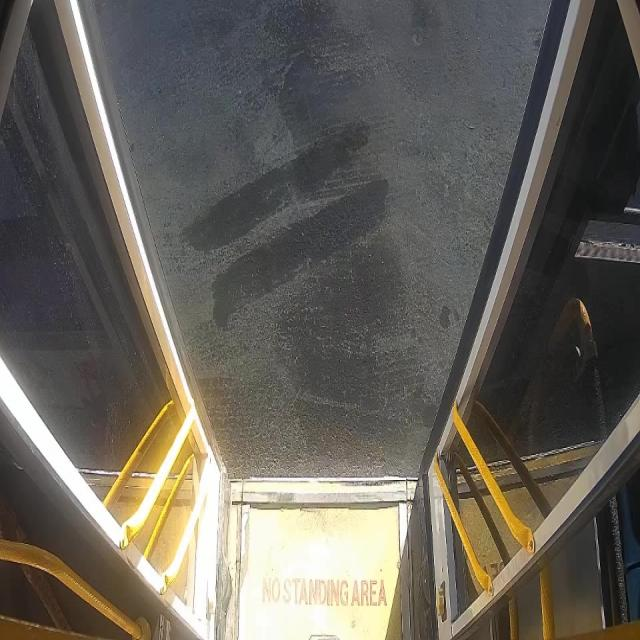open: (80, 0, 582, 486)
